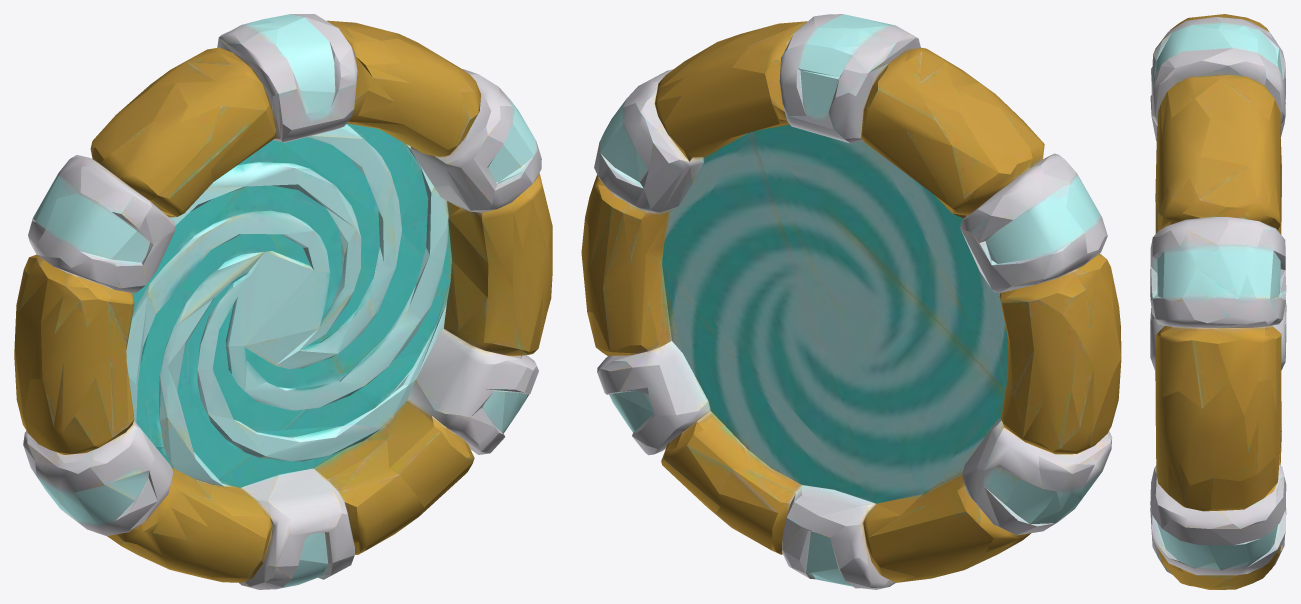
The model's file is finish-portal.glb.
The picture shows the model from 3 angles, left to right: view 1: azimuth 30°, elevation 25°; view 2: azimuth 150°, elevation 25°; view 3: azimuth 270°, elevation 25°; orthographic projection.
Bounding box in the file's own units: 1.87 × 1.9 × 0.4353.
Materials: 1 (1 with a texture image).
